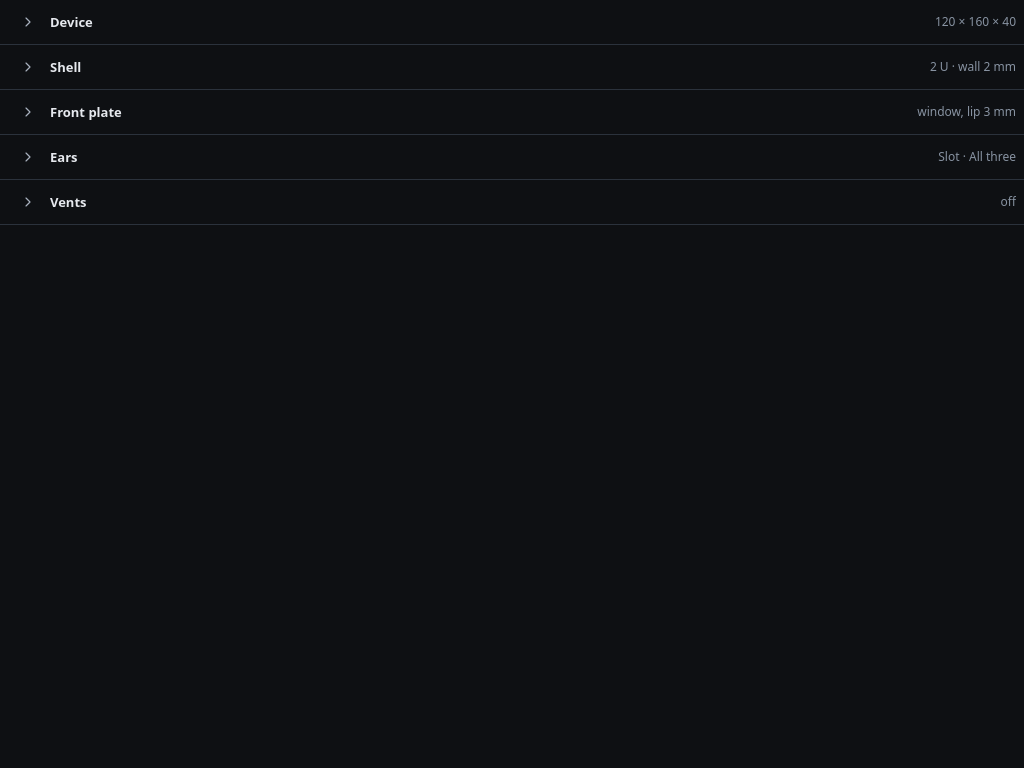
CasePanel › автоматические юниты показывают число и высоту; ручное меньше нужного поднимается с пометкой
Click the button named "Expand: Shell" at (28, 67), box left=12, top=51, right=44, bottom=83
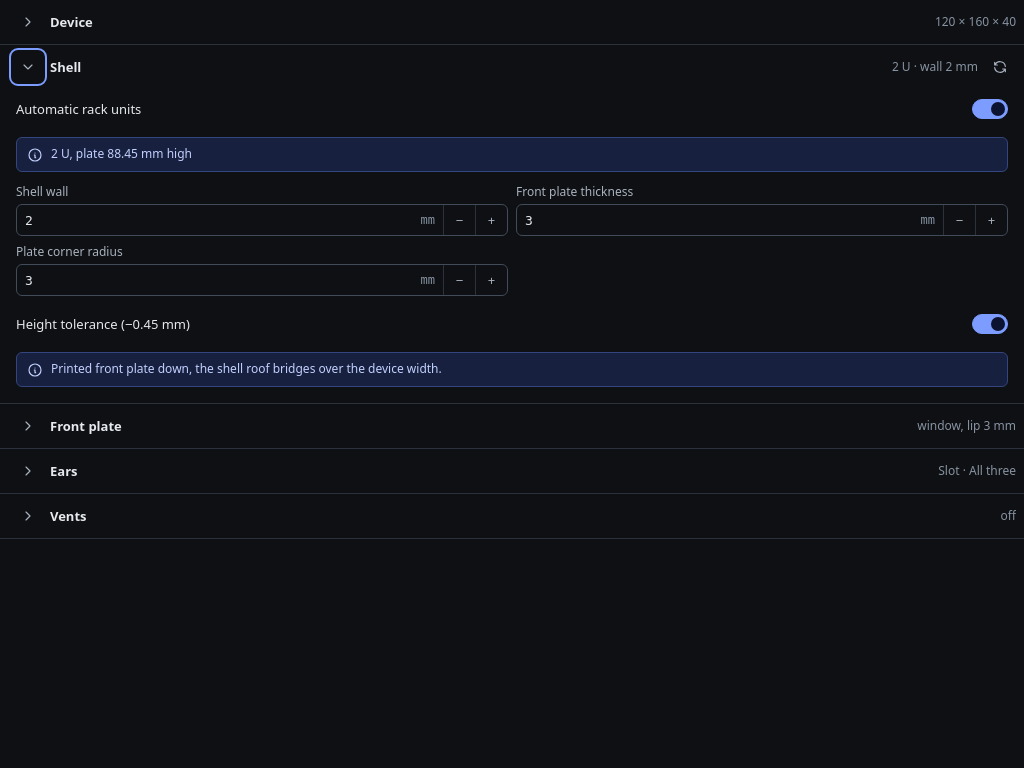
Result: the text "2 U, plate 88.45 mm high" is shown at left=51, top=146, right=192, bottom=162
Click the switch named "Automatic rack units" in the row of "Automatic rack units" at (990, 109), box left=972, top=99, right=1008, bottom=119
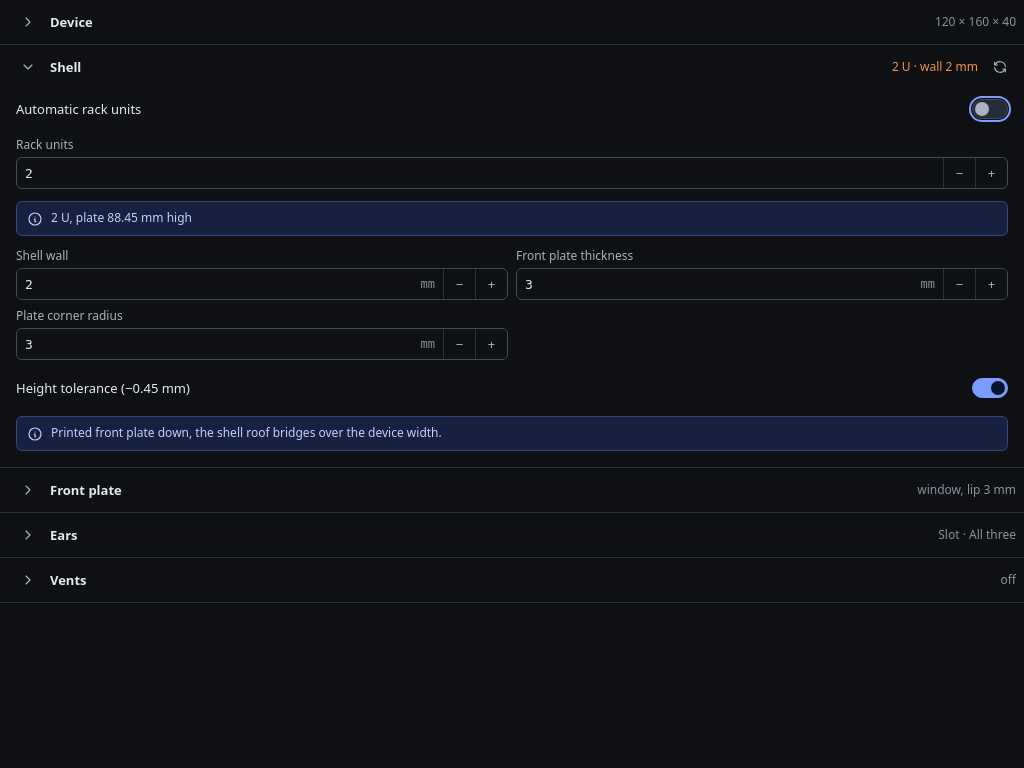
Click the button named "Increase: Rack units" at (991, 173), box left=975, top=158, right=1007, bottom=188
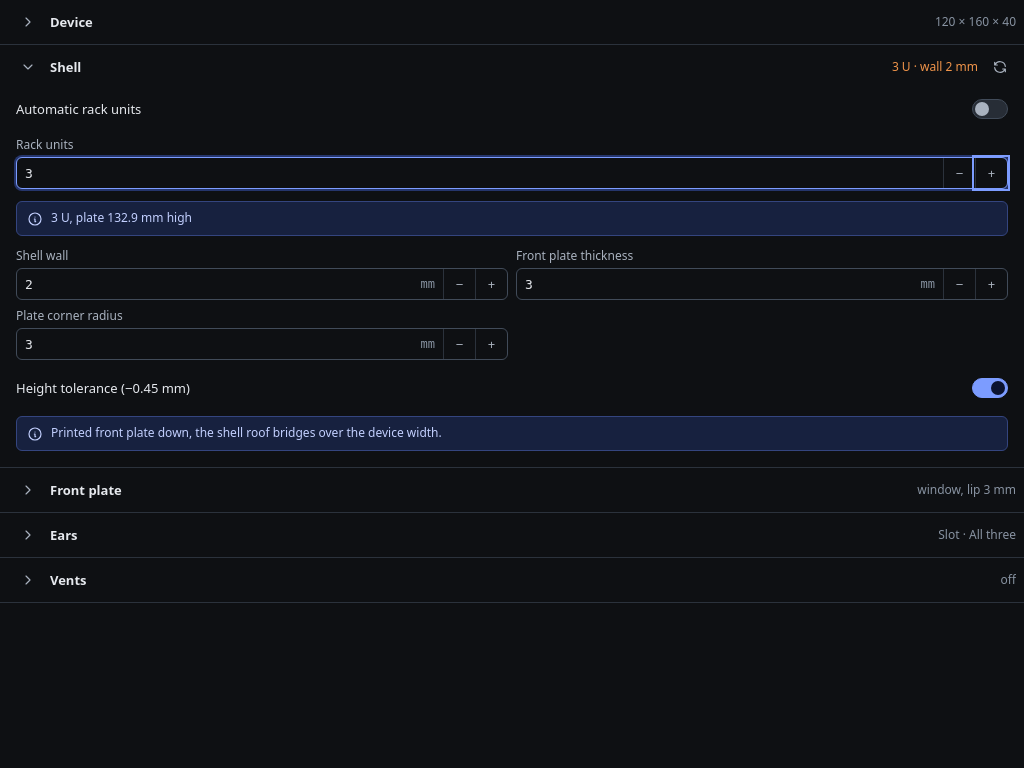
Result: the text "3 U, plate 132.9 mm high" is shown at left=51, top=210, right=192, bottom=226
Click the button named "Decrease: Rack units" at (959, 173), box left=943, top=158, right=975, bottom=188
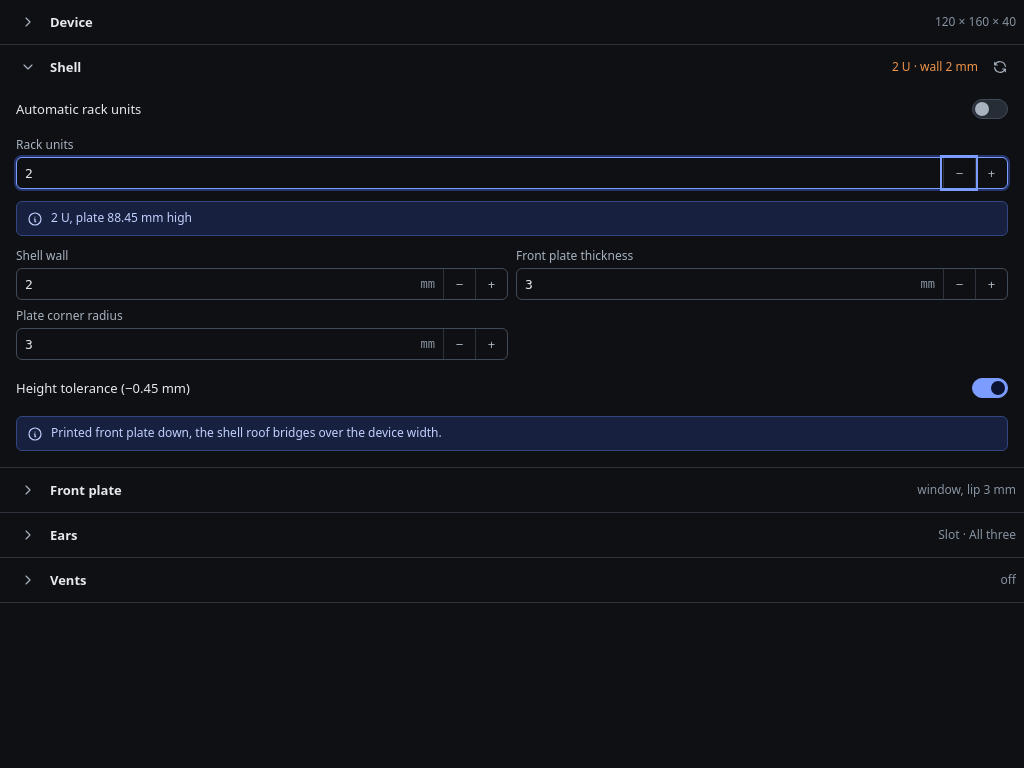
Click the button named "Decrease: Rack units" at (959, 173), box left=943, top=158, right=975, bottom=188
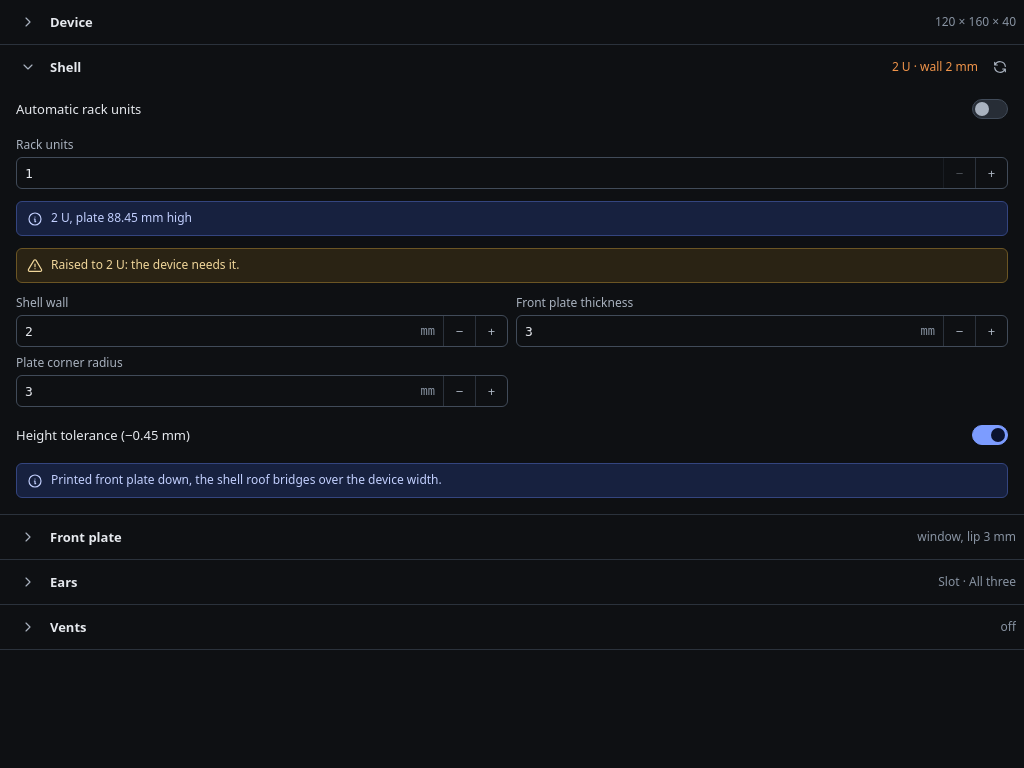
Result: the text "2 U, plate 88.45 mm high" is shown at left=51, top=210, right=192, bottom=226
Result: the text "Raised to 2 U: the device needs it." is shown at left=51, top=257, right=239, bottom=274
